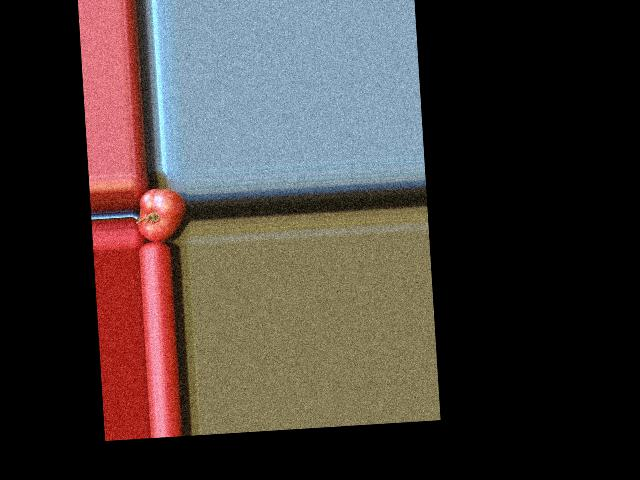tomato: (136, 187, 187, 242)
